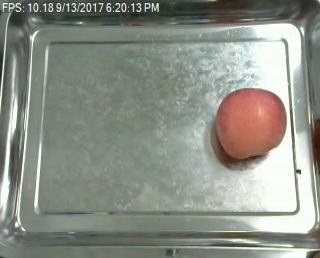Apple: (213, 87, 287, 161)
